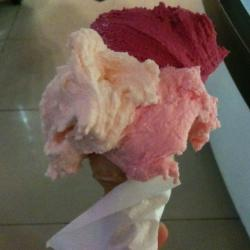icecream: (39, 7, 218, 181)
